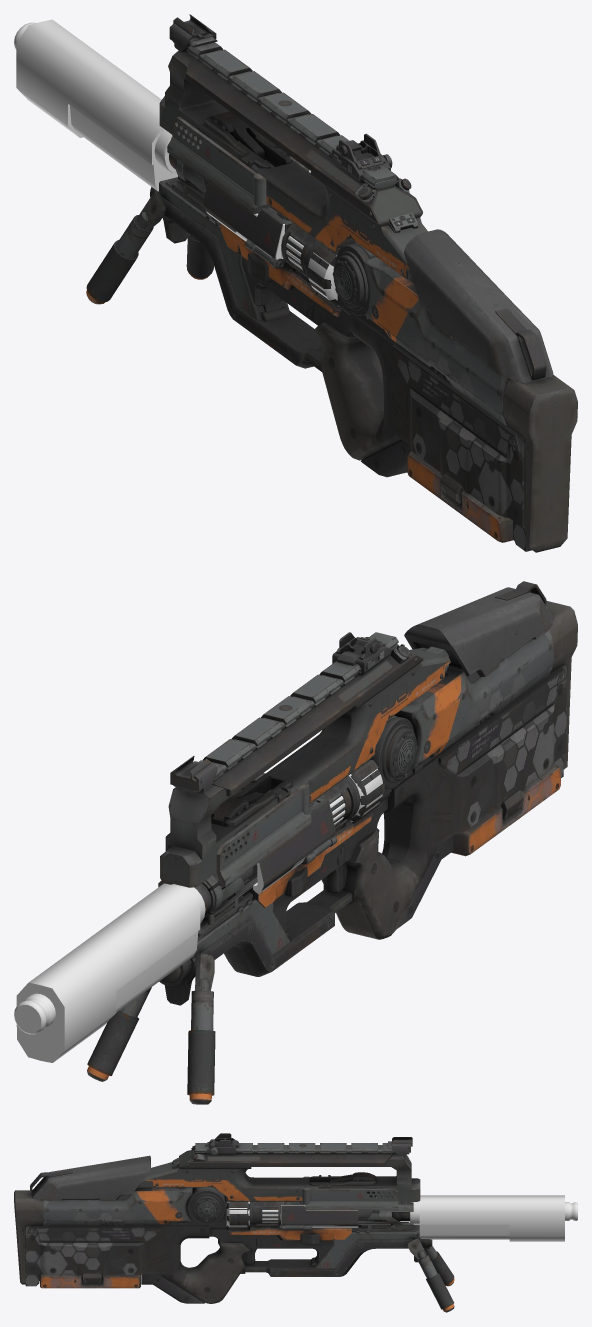
Rendered from apex_lstar.glb.
The picture shows the model from 3 angles, top to bottom: view 1: azimuth 30°, elevation 25°; view 2: azimuth 150°, elevation 25°; view 3: azimuth 270°, elevation 25°; orthographic projection. The views are drawn at different scales.
Visible parts, largest first — view 1: body__tex_apex_lstar_2, barrel__polymer_4, irons__tex_apex_lstar_3, body__polymer_0; view 2: body__tex_apex_lstar_2, barrel__polymer_4, irons__tex_apex_lstar_3, body__polymer_0; view 3: body__tex_apex_lstar_2, barrel__polymer_4, irons__tex_apex_lstar_3, body__polymer_0.
Part boxes in pixels (box(x1,y1,x2,y2)): body__tex_apex_lstar_2: box(86, 41, 577, 552); barrel__polymer_4: box(14, 19, 177, 191); irons__tex_apex_lstar_3: box(169, 14, 392, 182); body__polymer_0: box(206, 210, 338, 306); body__tex_apex_lstar_2: box(87, 581, 577, 1104); barrel__polymer_4: box(14, 883, 205, 1062); irons__tex_apex_lstar_3: box(170, 632, 391, 792); body__polymer_0: box(253, 768, 382, 893); body__tex_apex_lstar_2: box(14, 1143, 454, 1312); barrel__polymer_4: box(410, 1195, 577, 1241); irons__tex_apex_lstar_3: box(206, 1133, 412, 1155); body__polymer_0: box(226, 1201, 358, 1227).
Bounding box in the file's own units: 0.1246 × 0.2927 × 0.9171.
2 materials, 1 textured.
